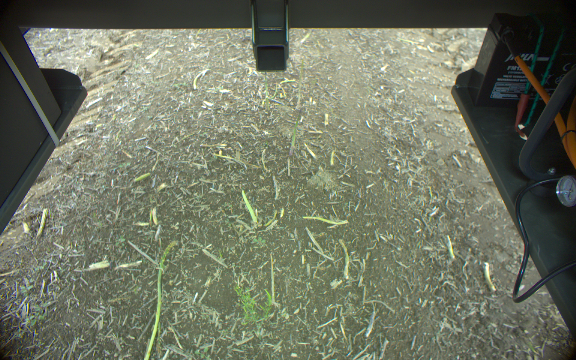aspa: (144, 241, 179, 360), (237, 189, 257, 226), (287, 113, 300, 155)
